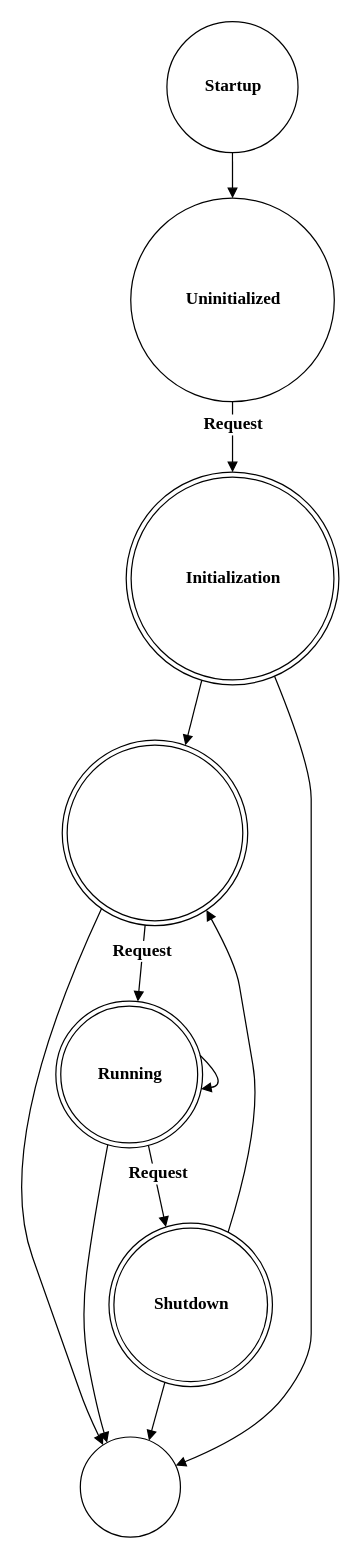
The diagram is 360 pixels wide and 1560 high, and some of its shapes have lost their labels. Here are the shapes that lost their labels. From the top down, the centre of each, then its label:
(154,832): IMD enable
(129,1486): Error
